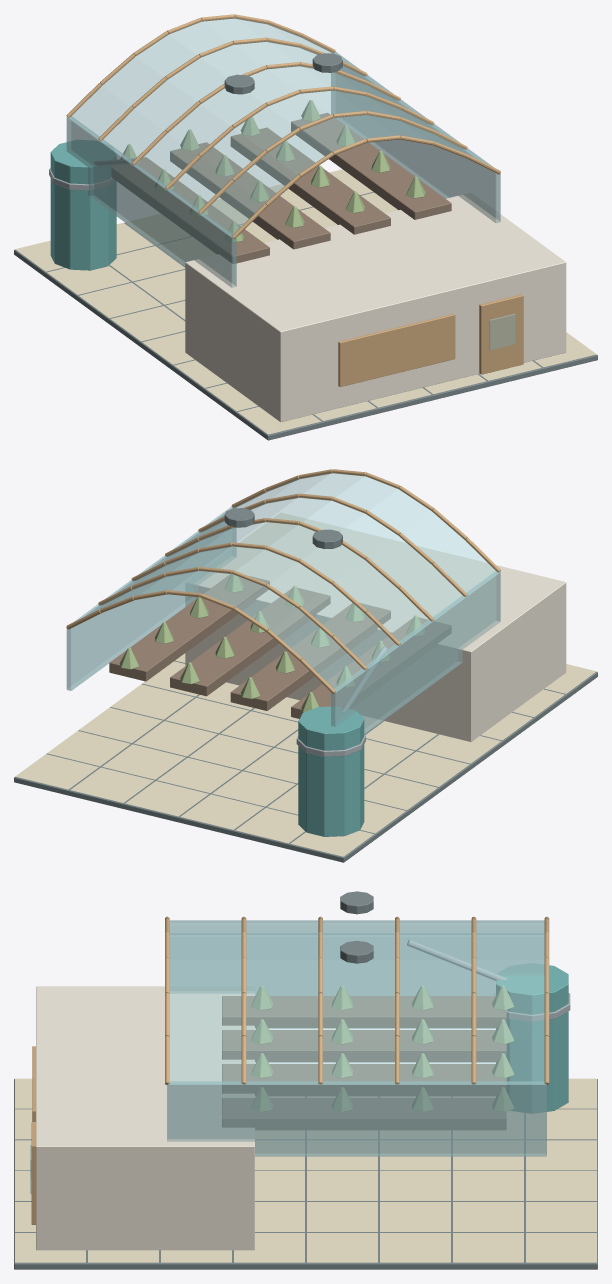
File: b05-canopy-greenhouse.glb
The picture shows the model from 3 angles, top to bottom: view 1: azimuth 30°, elevation 25°; view 2: azimuth 150°, elevation 25°; view 3: azimuth 270°, elevation 25°; orthographic projection. The views are drawn at different scales.
Parts seen in each view (by area): view 1: MM_STR_B05_CANOPY_GREENHOUSE_A_LOD0; view 2: MM_STR_B05_CANOPY_GREENHOUSE_A_LOD0; view 3: MM_STR_B05_CANOPY_GREENHOUSE_A_LOD0.
Part boxes in pixels (x1,y1,x2,y2): MM_STR_B05_CANOPY_GREENHOUSE_A_LOD0: [14, 14, 597, 440]; MM_STR_B05_CANOPY_GREENHOUSE_A_LOD0: [14, 469, 597, 862]; MM_STR_B05_CANOPY_GREENHOUSE_A_LOD0: [14, 891, 597, 1269].
Size of the model in its own units: 12 by 7.68 by 16.
